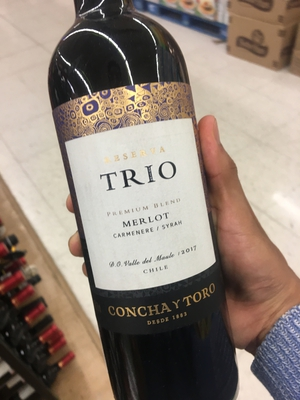trio merlot: (51, 16, 243, 376)
